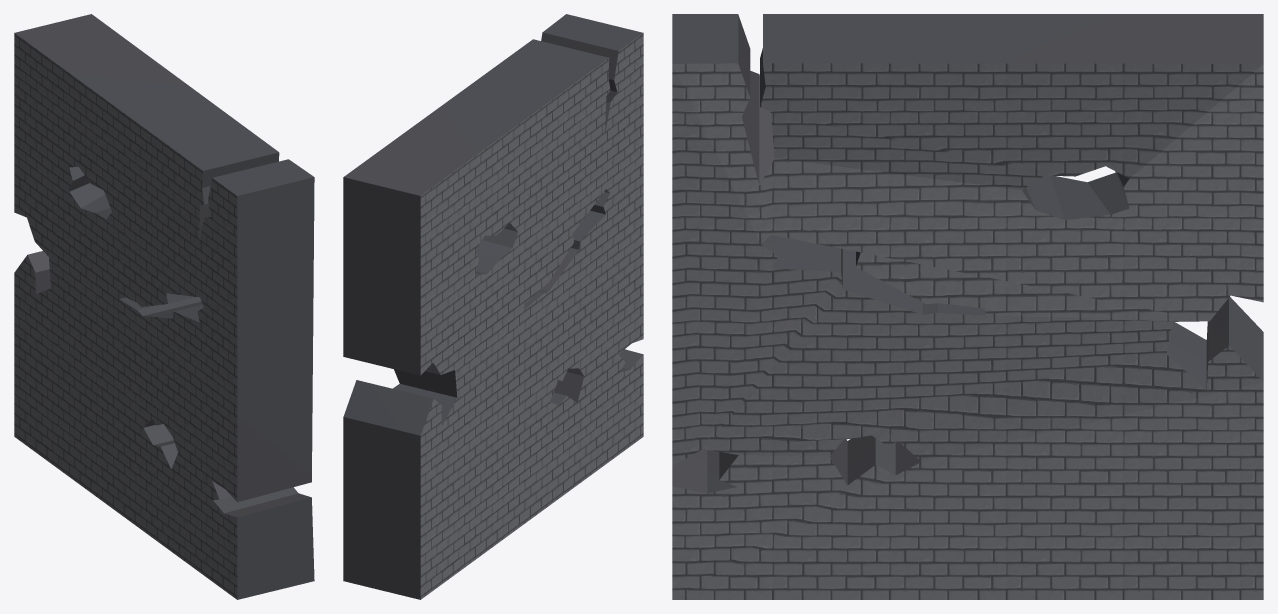
Rendered from kirik_duvar_kale.fbx.
The picture shows the model from 3 angles, left to right: view 1: azimuth 30°, elevation 25°; view 2: azimuth 150°, elevation 25°; view 3: azimuth 270°, elevation 25°; orthographic projection. The views are drawn at different scales.
Visible parts, largest first — view 1: Cube.031; view 2: Cube.031; view 3: Cube.031.
Boxes of the visible parts, x1,y1,x2,y2 form: Cube.031: [14, 14, 314, 599]; Cube.031: [343, 14, 643, 599]; Cube.031: [672, 14, 1263, 599].
Bounding box in the file's own units: 1 × 5 × 5.
